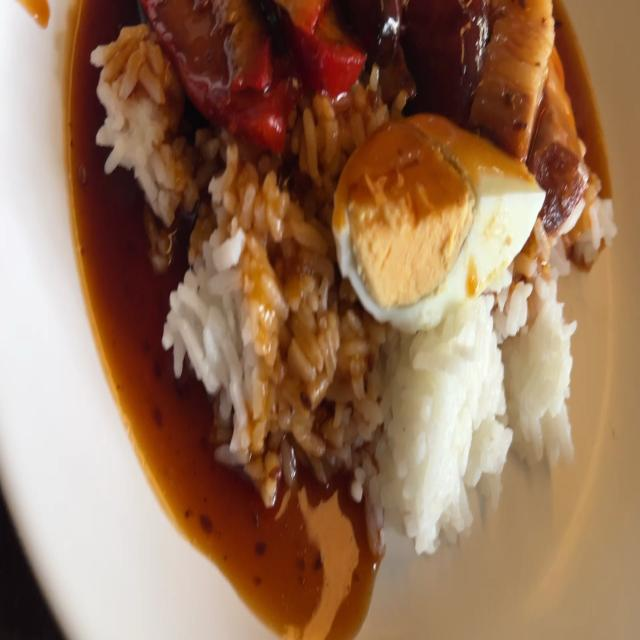red_pork_and_crispy_pork: (342, 114, 542, 332)
stir_fried_basil: (402, 0, 486, 123)
